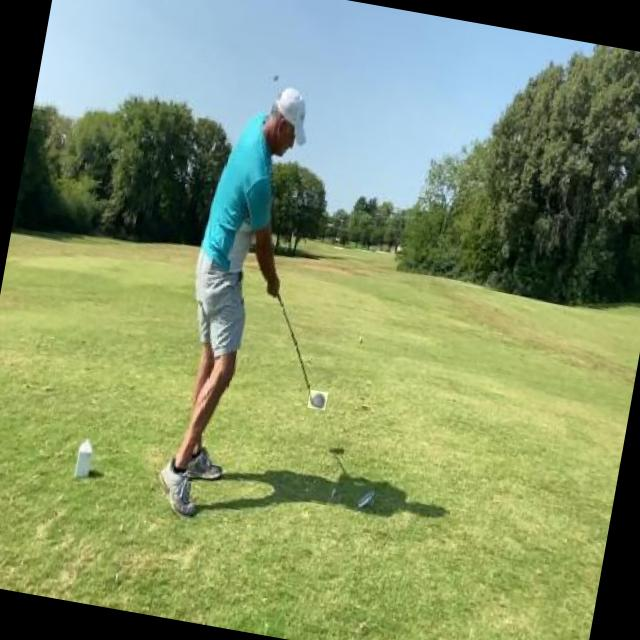club head: (306, 389, 328, 410)
